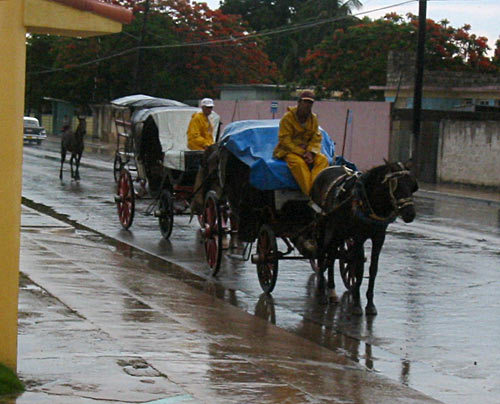horse: (308, 159, 419, 317), (56, 111, 90, 186)
